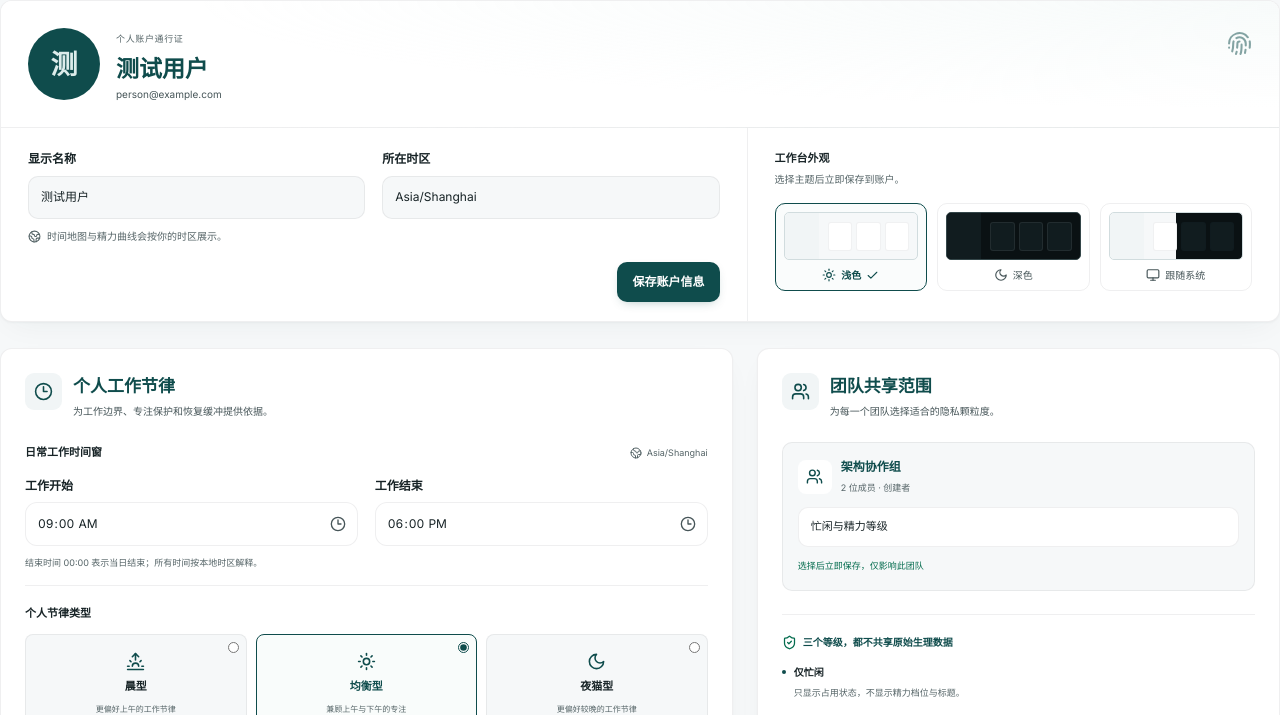
Test: account, rhythm and workspace privacy settings › patches the actual account name and timezone and updates the authenticated profile only after success
This screenshot has width=1280, height=715.
Replace the text in the field labelled "显示名称" with "新的显示名" at [197, 198], box 28,176 -> 365,219
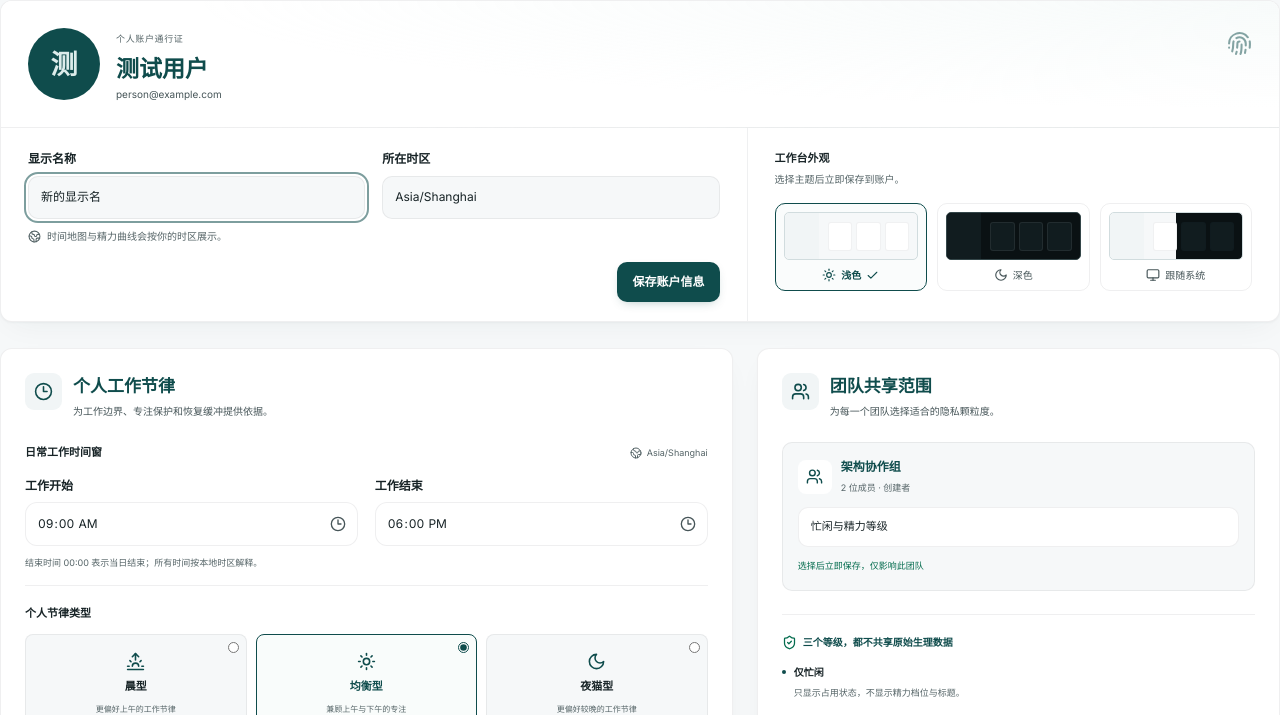
Replace the text in the field labelled "所在时区" with "Europe/Paris" at [551, 198], box 382,176 -> 720,219
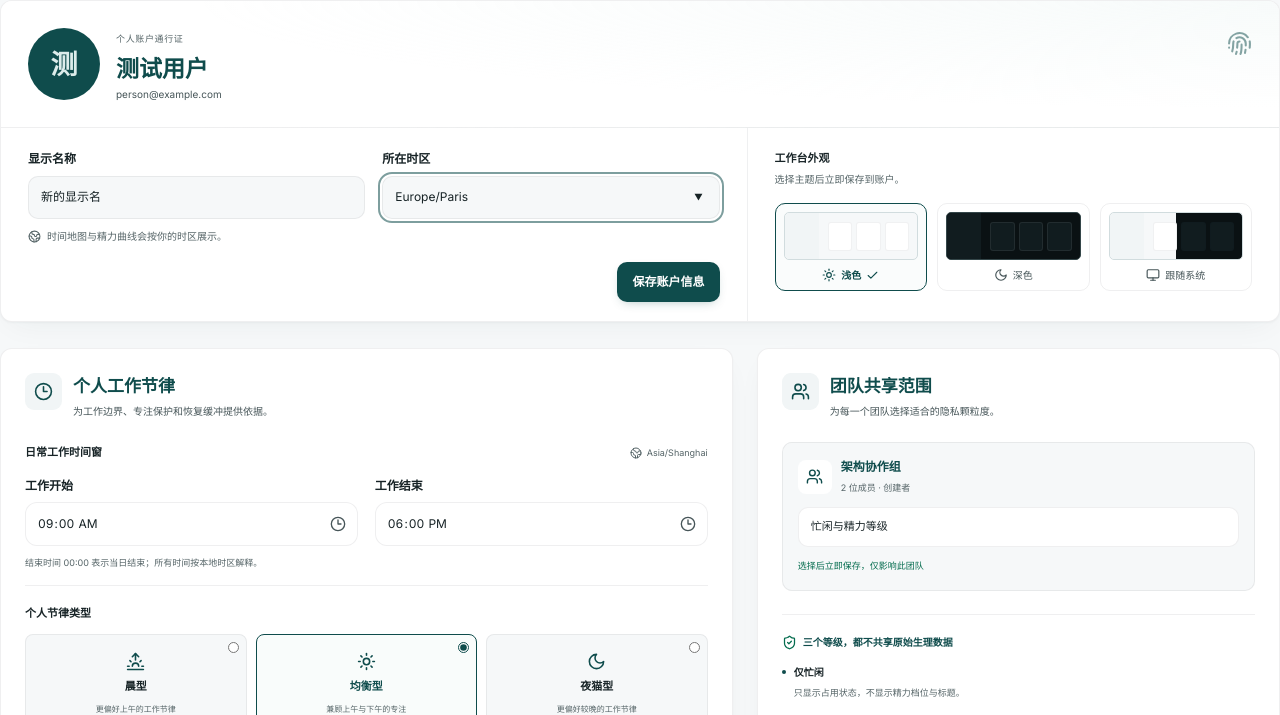
Click the button "保存账户信息" at [668, 282], box 618,262 -> 720,302
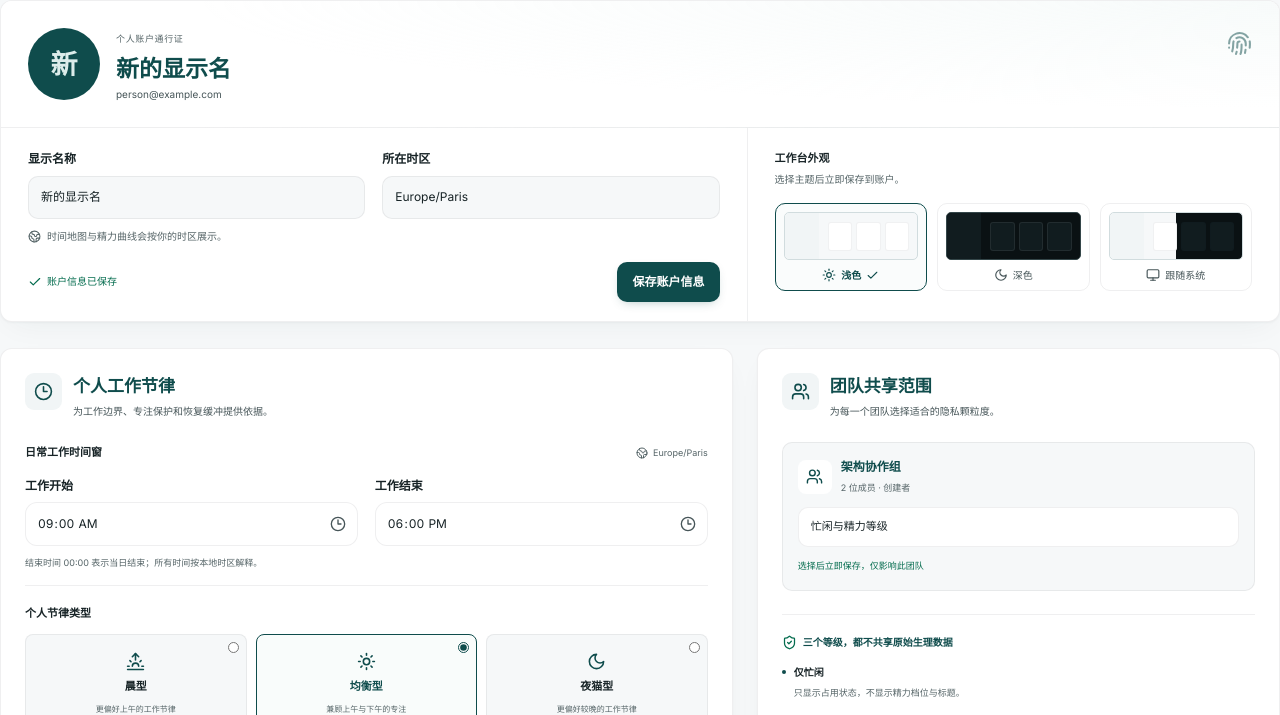
Now the text "账户信息已保存" is shown, box 28,273 -> 117,291
Now the element showing "Europe/Paris" is shown, box 636,446 -> 708,460
